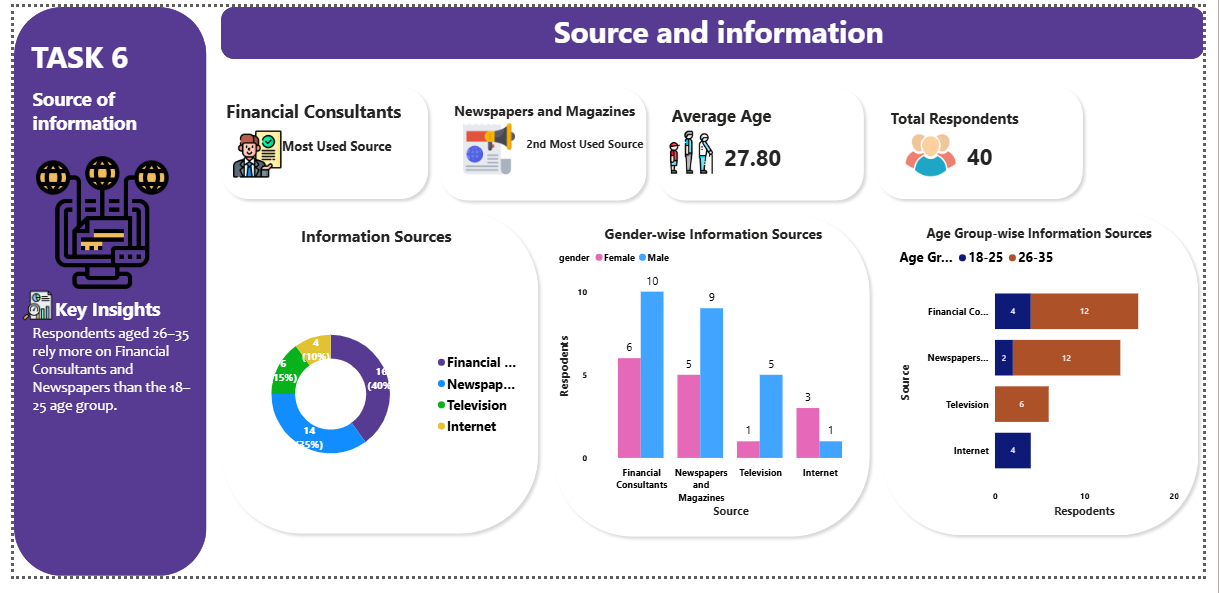

The dashboard page shown, as its layout file describes it:
{"tool":"powerbi","page":{"name":"Task 6","canvas":[1714,820],"ordinal":5},"visuals":[{"type":"shape","box":[0,0,277.5,820],"z":0},{"type":"shape","box":[297.5,0,1417.5,75],"z":1000},{"type":"textbox","box":[20,37.5,257.5,105],"z":2000},{"type":"textbox","box":[22.5,107.5,257.5,115],"z":3000},{"type":"image","box":[0,212.5,255,197.5],"z":4000},{"type":"shape","box":[290,106,316,180],"z":5000},{"type":"shape","box":[605,107.5,315,180],"z":6000},{"type":"shape","box":[920,107.5,315,180],"z":7000},{"type":"shape","box":[1235,105,315,180],"z":8000},{"type":"cardVisual","fields":{"Data":["Data_set 2.Most Used Source"]},"box":[277.5,67.5,377.5,210],"z":9000},{"type":"image","box":[315,172.5,70,77.5],"z":10000},{"type":"cardVisual","fields":{"Data":["Data_set 2.2nd Most Used Source"]},"box":[605,80,435,182.5],"z":11000},{"type":"image","box":[625,165,120,80],"z":12000},{"type":"cardVisual","fields":{"Data":["Data_set 2.Average Age"]},"box":[920,115,292.5,147.5],"z":13000},{"type":"image","box":[945,172.5,62.5,72.5],"z":14000},{"type":"cardVisual","fields":{"Data":["Data_set 2.Total Respondents"]},"box":[1235,92.5,315,195],"z":15000},{"type":"image","box":[1272.5,177.5,100,72.5],"z":16000},{"type":"shape","box":[292.5,285,472.5,482.5],"z":17000},{"type":"shape","box":[770,290,472.5,482.5],"z":18000},{"type":"shape","box":[1242.5,287.5,472.5,482.5],"z":19000},{"type":"textbox","box":[315,0,1400,67.5],"z":20000},{"type":"donutChart","title":"Information Sources","fields":{"Category":["Data_set 2.Source"],"Y":["CountNonNull(Data_set 2.Source)"]},"box":[297.5,312.5,447.5,457.5],"z":21000},{"type":"clusteredColumnChart","title":"Gender-wise Information Sources","fields":{"Category":["Data_set 2.Source"],"Y":["CountNonNull(Data_set 2.Source)"],"Series":["Data_set 2.gender"]},"box":[780,312.5,455,427.5],"z":22000},{"type":"barChart","title":"Age Group-wise Information Sources","fields":{"Category":["Data_set 2.Source"],"Series":["Data_set 2.Age Group"],"Y":["CountNonNull(Data_set 2.Source)"]},"box":[1272.5,312.5,412.5,427.5],"z":23000},{"type":"textbox","box":[54.1,410.8,201.1,71.4],"z":24000},{"type":"image","box":[0,408.7,67,43.2],"z":25000},{"type":"textbox","box":[21.6,451.9,255.2,263.8],"z":26000}]}

Visuals, with their boxes in screenshot pixels (x1, y1, x2, y2), scaled from the page's 1714x820 canvas onto the 1219x593 screenshot:
shape: <box>0,0,197,592</box>
shape: <box>212,0,1218,54</box>
textbox: <box>14,27,197,103</box>
textbox: <box>16,78,199,161</box>
image: <box>0,154,181,296</box>
shape: <box>206,77,431,207</box>
shape: <box>430,78,654,208</box>
shape: <box>654,78,878,208</box>
shape: <box>878,76,1102,206</box>
cardVisual - Data_set 2.Most Used Source: <box>197,49,466,201</box>
image: <box>224,125,274,181</box>
cardVisual - Data_set 2.2nd Most Used Source: <box>430,58,740,190</box>
image: <box>445,119,530,177</box>
cardVisual - Data_set 2.Average Age: <box>654,83,862,190</box>
image: <box>672,125,717,177</box>
cardVisual - Data_set 2.Total Respondents: <box>878,67,1102,208</box>
image: <box>905,128,976,181</box>
shape: <box>208,206,544,555</box>
shape: <box>548,210,884,559</box>
shape: <box>884,208,1218,557</box>
textbox: <box>224,0,1218,49</box>
"Information Sources" donutChart: <box>212,226,530,557</box>
"Gender-wise Information Sources" clusteredColumnChart: <box>555,226,878,535</box>
"Age Group-wise Information Sources" barChart: <box>905,226,1198,535</box>
textbox: <box>38,297,181,349</box>
image: <box>0,296,48,327</box>
textbox: <box>15,327,197,518</box>
